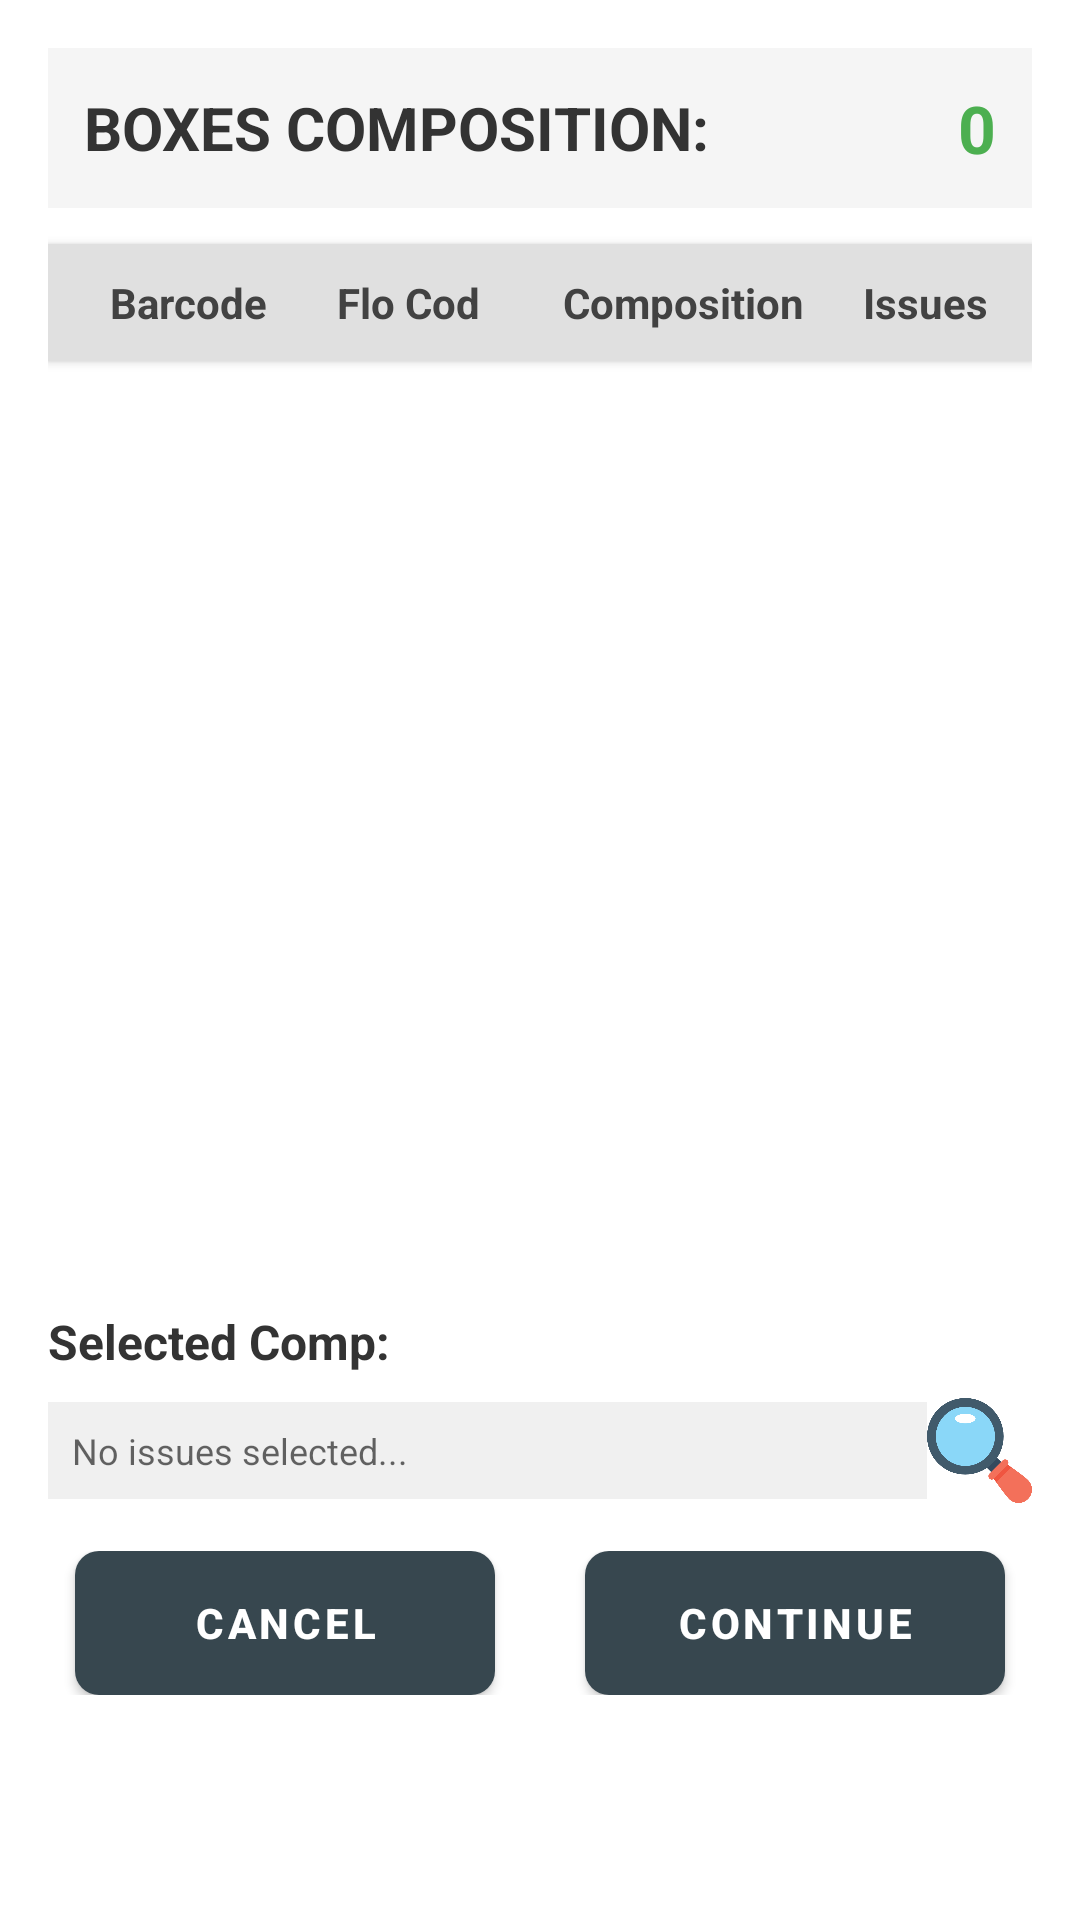

Screen size 1080px x 1920px. Icon name, then its center in pixels as [x,y]:
Search issue: [979,1450]
